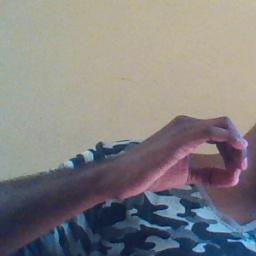O: (131, 110, 251, 203)
